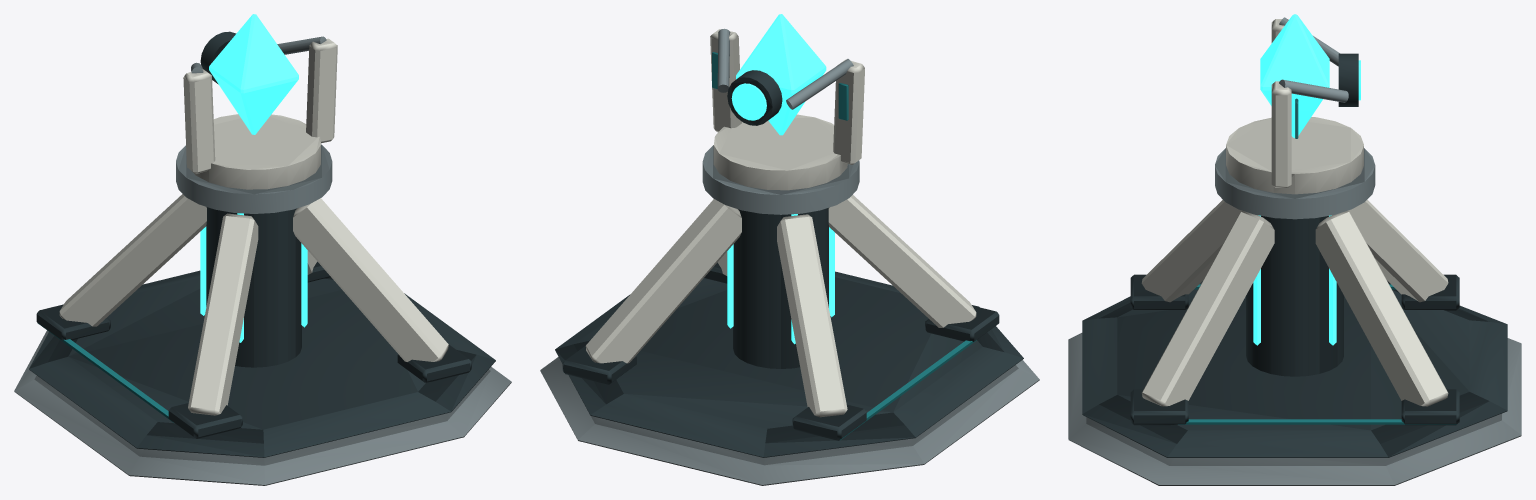
File: LanceSentry.glb
3 views of the same model, side by side, from view 1: azimuth 30°, elevation 25°; view 2: azimuth 150°, elevation 25°; view 3: azimuth 270°, elevation 25° (orthographic). The views are drawn at different scales.
Visible parts, largest first — view 1: export_LanceSentry_Foundation, export_LanceSentry_PrismCradle, export_LanceSentry_FacetedCrystal, export_LanceSentry_FocusCollar; view 2: export_LanceSentry_Foundation, export_LanceSentry_PrismCradle, export_LanceSentry_FacetedCrystal, export_LanceSentry_FocusCollar; view 3: export_LanceSentry_Foundation, export_LanceSentry_PrismCradle, export_LanceSentry_FacetedCrystal, export_LanceSentry_FocusCollar.
Part boxes in pixels (x1=…): export_LanceSentry_Foundation: x1=14, y1=144, x2=511, y2=485; export_LanceSentry_PrismCradle: x1=183, y1=36, x2=337, y2=189; export_LanceSentry_FacetedCrystal: x1=209, y1=14, x2=298, y2=134; export_LanceSentry_FocusCollar: x1=200, y1=31, x2=236, y2=84; export_LanceSentry_Foundation: x1=540, y1=145, x2=1039, y2=485; export_LanceSentry_PrismCradle: x1=710, y1=28, x2=864, y2=190; export_LanceSentry_FacetedCrystal: x1=736, y1=14, x2=826, y2=135; export_LanceSentry_FocusCollar: x1=727, y1=70, x2=782, y2=125; export_LanceSentry_Foundation: x1=1068, y1=148, x2=1521, y2=485; export_LanceSentry_PrismCradle: x1=1226, y1=17, x2=1363, y2=194; export_LanceSentry_FacetedCrystal: x1=1260, y1=14, x2=1329, y2=137; export_LanceSentry_FocusCollar: x1=1338, y1=53, x2=1360, y2=106.
Bounding box in the file's own units: 4.07 × 3.72 × 4.07.
